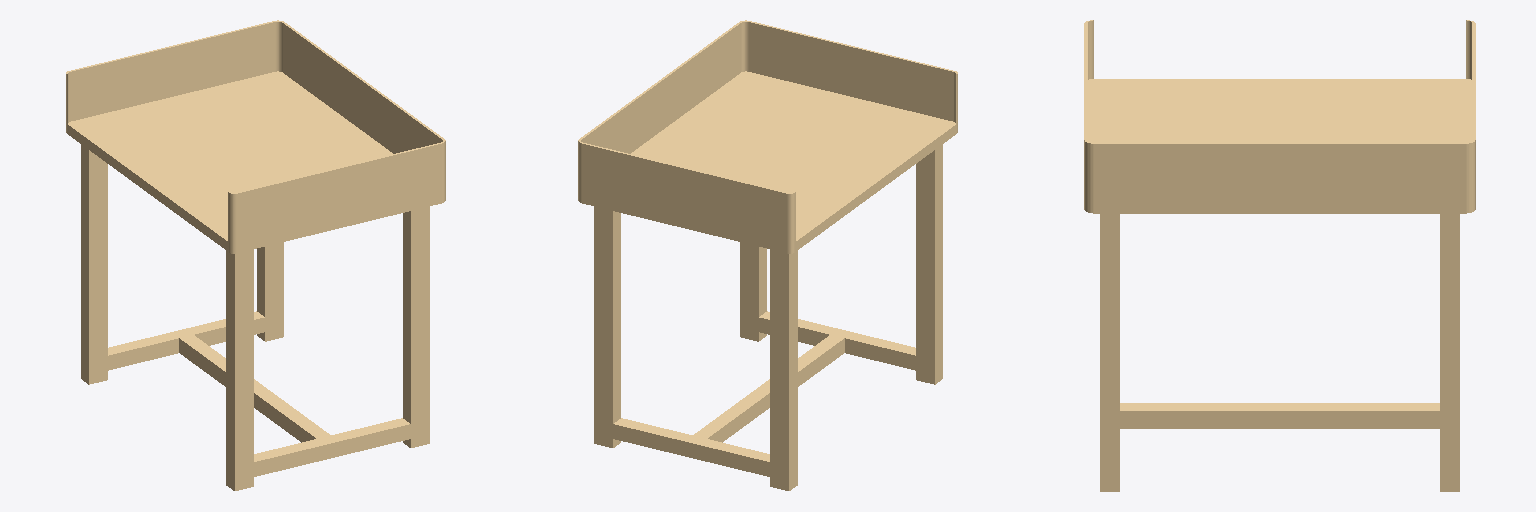
robot.urdf — objects:
<?xml  version="1.0"?>
<robot name ="objects"> 
    <!-- Author: [author]; e-mail:[email redacted]. The urdf file was develped in tongji university.-->

    <!--create  color params-->
    <material name ="LightGrey">
        <color rgba="0.7 0.7 0.7 1.0"/>
    </material>

    <material name ="White">
        <color rgba="1 1 1 1.0"/>
    </material>

    <material name ="Green">
        <color rgba="0. 1. 0. 1.0"/>
    </material>

    <material name ="Brone">
        <color rgba="1.0 0.89 0.7 1"/>
    </material>

     <material name ="Yellw">
        <color rgba="1. 1. 0. 1.0"/>
    </material>

<material name ="Orange">
        <color rgba="1. 0.38 0. 1.0"/>
    </material>

    <material name ="Blue">
        <color rgba="0.69 0.87 0.9 1.0"/>
    </material>

    <mass name ="table_mass">
        <mass value="1.0"/>
    </mass>

    <mass name ="cylander_mass">
        <mass value="2.0"/>
    </mass>



    <link  name ="World"/>

    <joint name="table_link_to_world" type="fixed">
        <parent link="World"/>
        <child link="table"/>
        <origin xyz="0. 0. 0.0" rpy="0.0 0.0 0.0"/>
    </joint>
     
    <link name = "table">
        <contact>
            <lateral_friction value="0.05"/>
            <rolling_friction value="0.0"/>
            <contact_erp value="1.0"/>
       </contact>
        <visual>
            <origin  xyz="0.0 0.0 0.0" rpy="0.0 0.0 0.0"/>
            <geometry>
                <mesh filename = "meshes/clean_table.dae"/>
            </geometry >
            <material name ="Brone"/>
        </visual>
        <collision>
            <origin xyz="0.0 0.0 0.0" rpy="0.0 0.0 0.0"/>
            <geometry>
                <mesh filename ="meshes/clean_table.STL"/>
            </geometry>
        </collision>
        <inertial>
            <mass value = "60"/>
            <origin xyz="0.0 0.0 0.0" rpy="0.0 0.0 0.0"/>
            <inertia ixx="0.837" ixy="0.0" ixz="0.0" iyy="0.837" iyz="0.0" izz="0.15"/>
        </inertial>
    </link>
</robot>

--- What the picture shows (computed from the rendered views, not written in the file) ---
3 views of the same robot in one strip: view 1: azimuth 30°, elevation 25°; view 2: azimuth 150°, elevation 25°; view 3: azimuth 270°, elevation 25° (orthographic).
Robot: objects — 2 links, 1 joints (1 fixed); root link World; default pose: all joints at 0.
Visible links, largest first — view 1: table; view 2: table; view 3: table.
Link boxes in pixels (x1,y1,x2,y2): table: (66,20,445,490); table: (578,20,957,490); table: (1084,20,1475,491).
Bounding box of the posed robot: 0.91 × 1.22 × 1.22 m (x, y, z).
Meshes: 1 distinct files referenced, 1 mesh visuals loaded (1 Collada DAE).